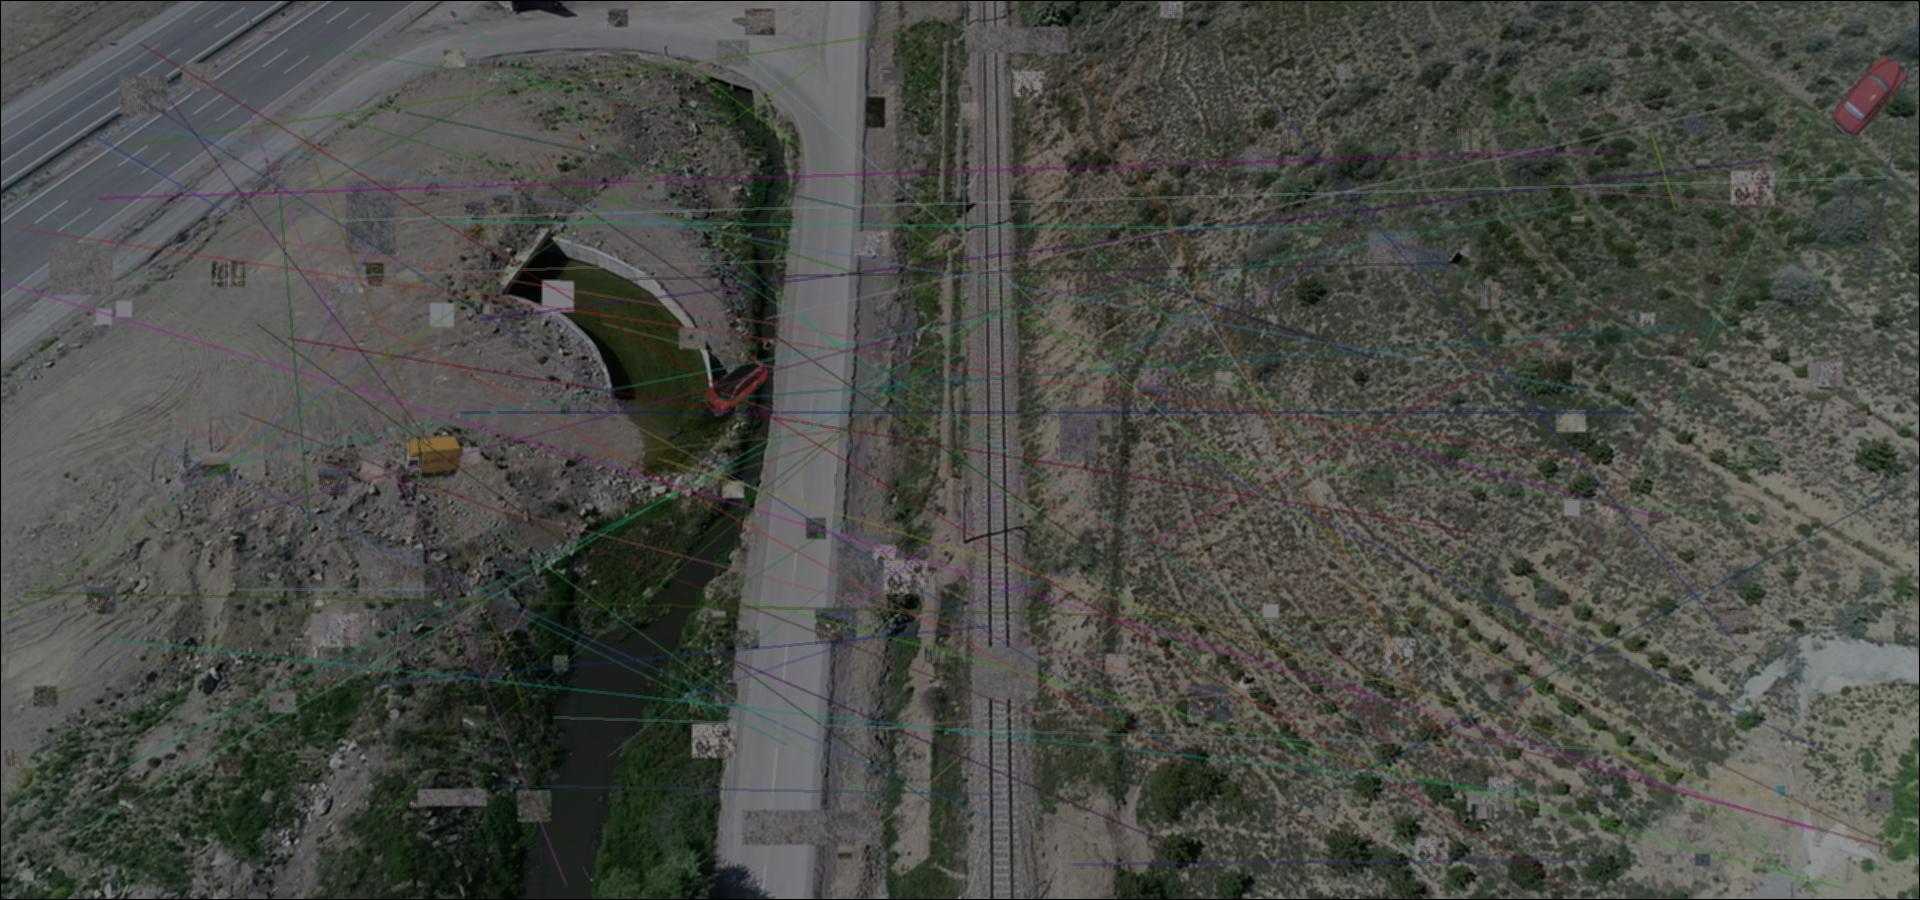arac: (1829, 54, 1909, 140), (696, 358, 768, 416), (402, 436, 460, 478)
